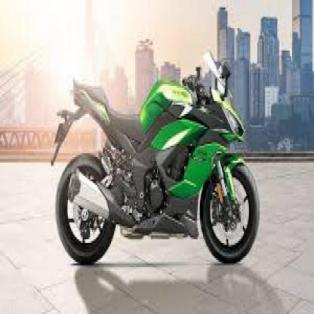Motocicleta: (48, 37, 264, 277)
